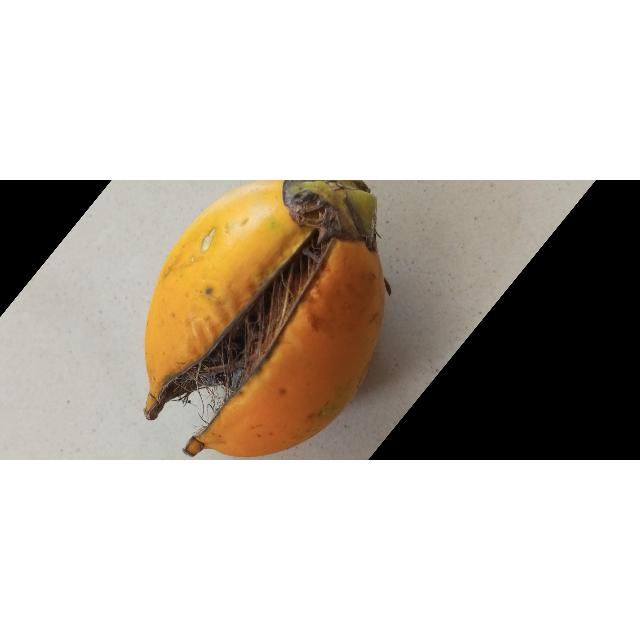damaged: (143, 180, 389, 460)
